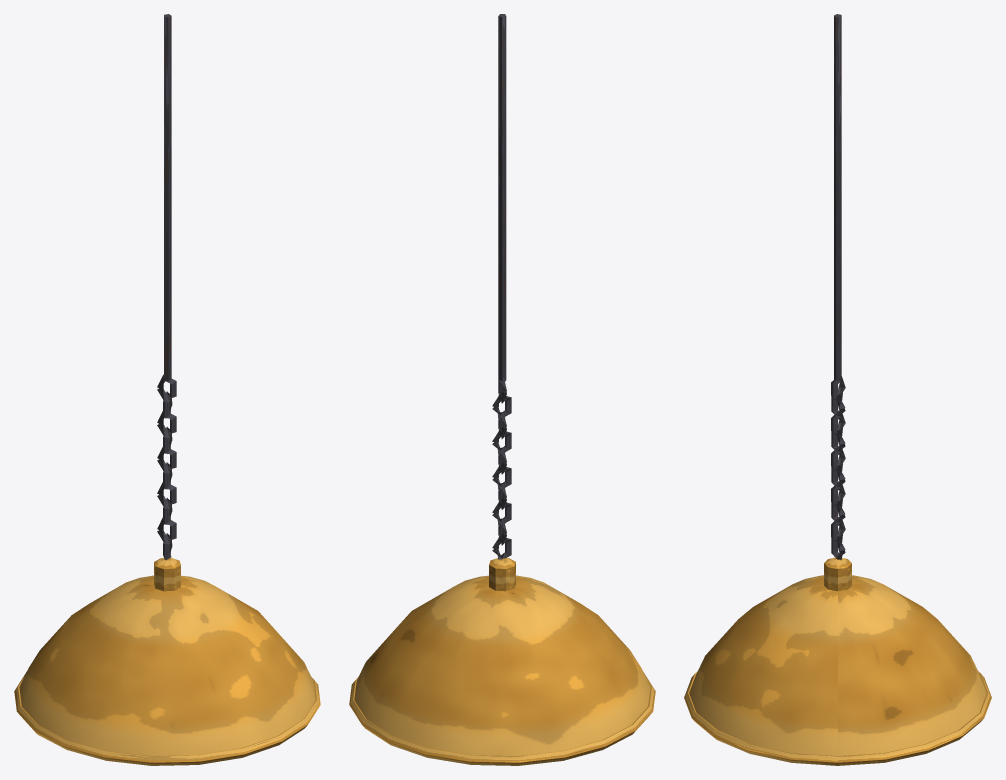
File: Lamp_Brass.fbx
3 views of the same model, side by side, from view 1: azimuth 30°, elevation 25°; view 2: azimuth 150°, elevation 25°; view 3: azimuth 270°, elevation 25° (orthographic).
Visible parts, largest first — view 1: Lamp_Brass; view 2: Lamp_Brass; view 3: Lamp_Brass.
Boxes of the visible parts, box(x1,y1,x2,y2) form: Lamp_Brass: box(14, 14, 320, 765); Lamp_Brass: box(349, 14, 655, 765); Lamp_Brass: box(684, 14, 991, 765).
Size of the model in its own units: 0.882 by 2.22 by 0.882.
Materials: 2 (2 with a texture image).
